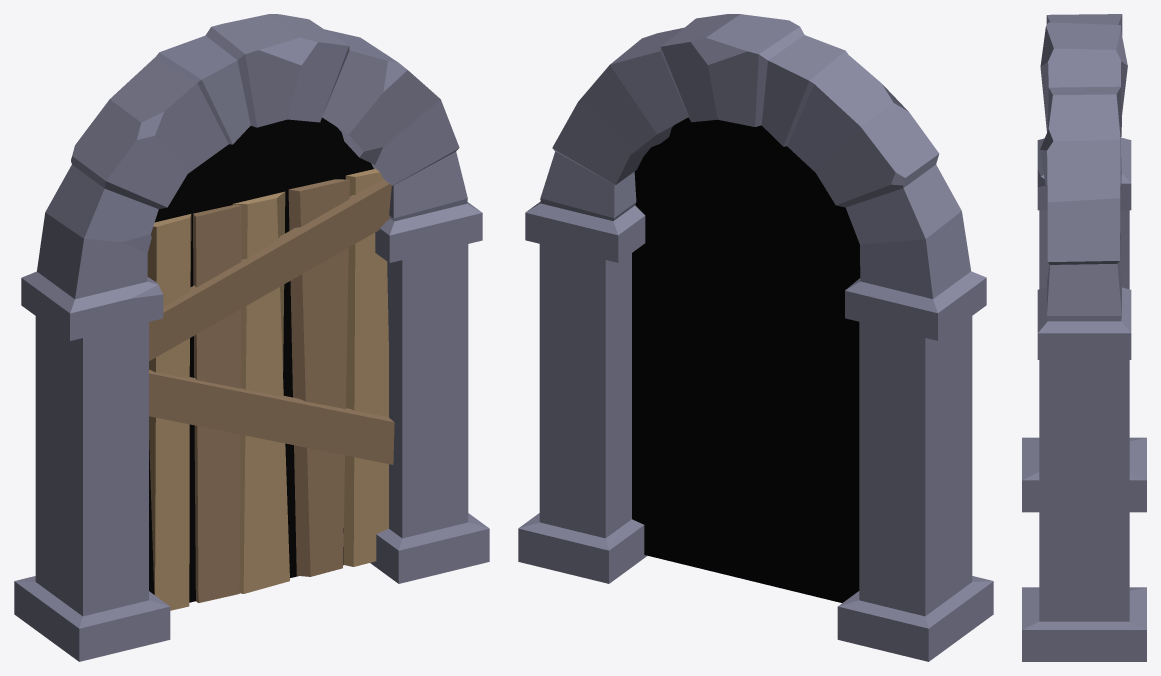
The model's file is D1_door.fbx.
3 renders of one model, left to right at view 1: azimuth 30°, elevation 25°; view 2: azimuth 150°, elevation 25°; view 3: azimuth 270°, elevation 25°, orthographic. The views are drawn at different scales.
Parts seen in each view (by area): view 1: Cube.004, WoodDoor, Plane.002; view 2: Cube.004, Plane.002; view 3: Cube.004.
Part boxes in pixels (x1,y1,x2,y2): Cube.004: (14,14,489,661); WoodDoor: (147,168,394,610); Plane.002: (149,117,373,602); Cube.004: (518,14,993,661); Plane.002: (632,117,860,602); Cube.004: (1022,14,1146,661).
Bounding box in the file's own units: 223 × 287 × 60.94.
